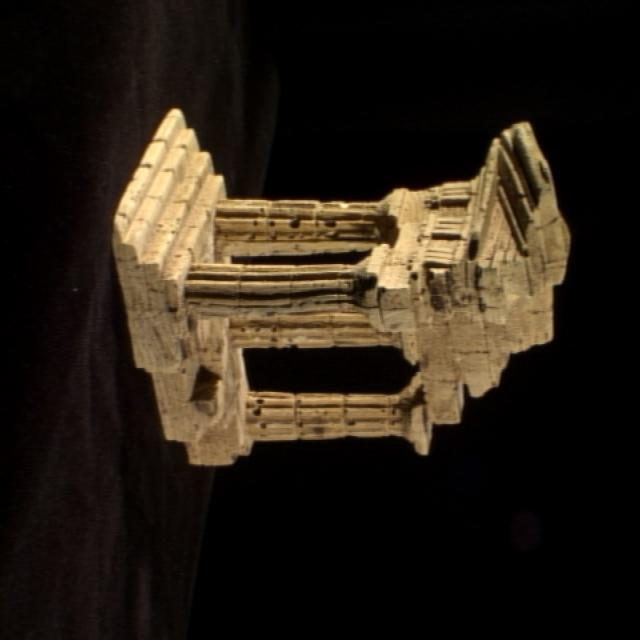Instance-Segmentation: (113, 109, 568, 464)
